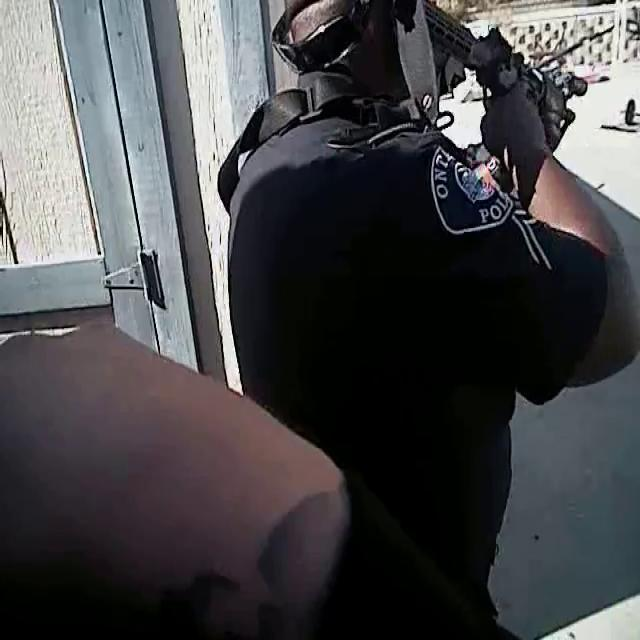gun: (360, 0, 614, 206)
